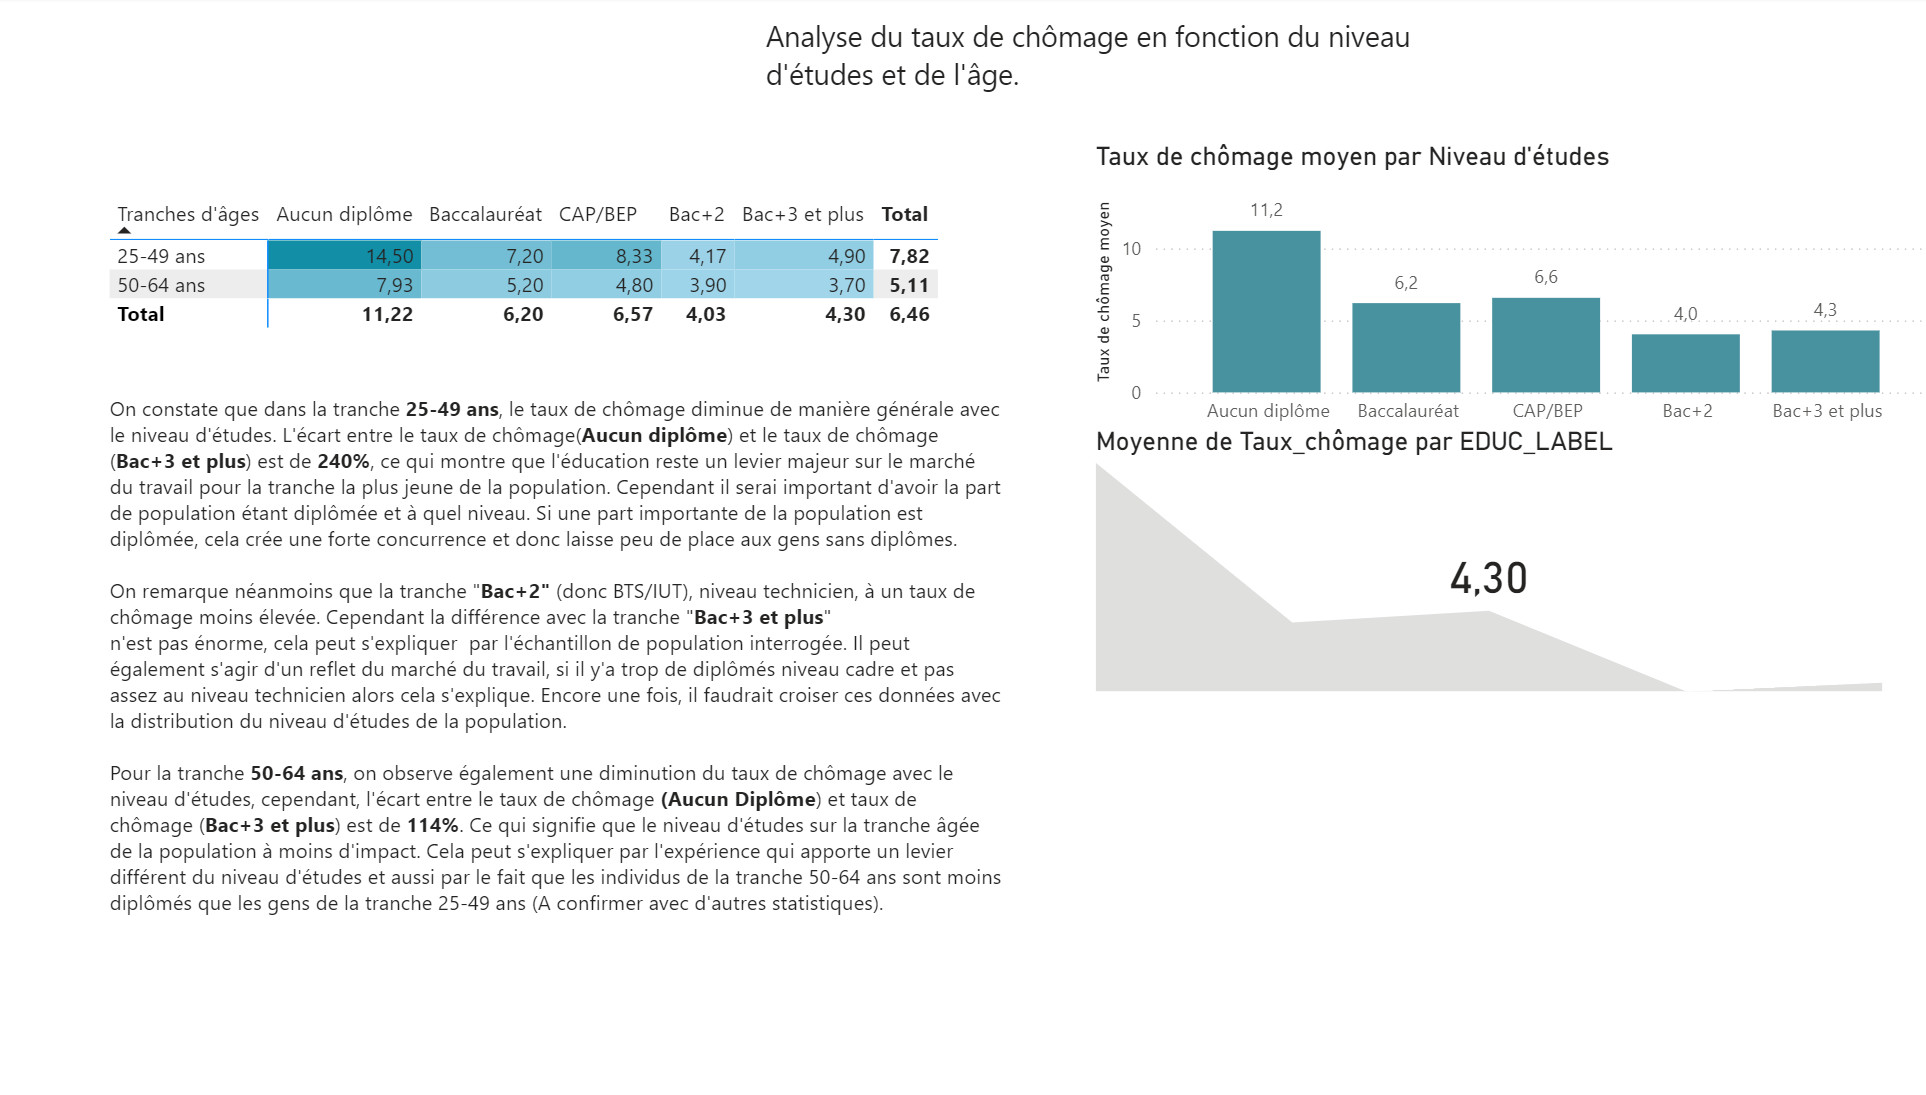

The page's visual inventory and layout, read from the dashboard file:
{"tool":"powerbi","page":{"name":"Page 1","canvas":[1280,720],"ordinal":0},"visuals":[{"type":"pivotTable","fields":{"Rows":["Taux_chômage_2024_âge_education.AGE_LABEL"],"Columns":["Taux_chômage_2024_âge_education.EDUC_LABEL"],"Values":["Avg(Taux_chômage_2024_âge_education.Taux_chômage)"]},"box":[72.6,126.3,573.3,124.3],"z":0},{"type":"clusteredColumnChart","fields":{"Category":["Taux_chômage_2024_âge_education.EDUC_LABEL"],"Y":["Avg(Taux_chômage_2024_âge_education.Taux_chômage)"]},"box":[717.9,94.2,562.1,203.5],"z":1000},{"type":"kpi","fields":{"Indicator":["Avg(Taux_chômage_2024_âge_education.Taux_chômage)"],"TrendLine":["Taux_chômage_2024_âge_education.EDUC_LABEL"]},"box":[717.9,280.7,524.8,178.7],"z":2000},{"type":"textbox","box":[501.9,7.9,486.2,86.4],"z":3000},{"type":"textbox","box":[72.6,255.2,609.9,392],"z":4000}]}

Visuals, with their boxes in screenshot pixels (x1, y1, x2, y2), scaled from the page's 1280x720 canvas onto the 1926x1095 screenshot:
pivotTable - Taux_chômage_2024_âge_education.AGE_LABEL x Taux_chômage_2024_âge_education.EDUC_LABEL: box=[109, 192, 972, 381]
clusteredColumnChart - Taux_chômage_2024_âge_education.EDUC_LABEL x Avg(Taux_chômage_2024_âge_education.Taux_chômage): box=[1080, 143, 1925, 453]
kpi - Avg(Taux_chômage_2024_âge_education.Taux_chômage) x Taux_chômage_2024_âge_education.EDUC_LABEL: box=[1080, 427, 1870, 699]
textbox: box=[755, 12, 1487, 143]
textbox: box=[109, 388, 1027, 984]
